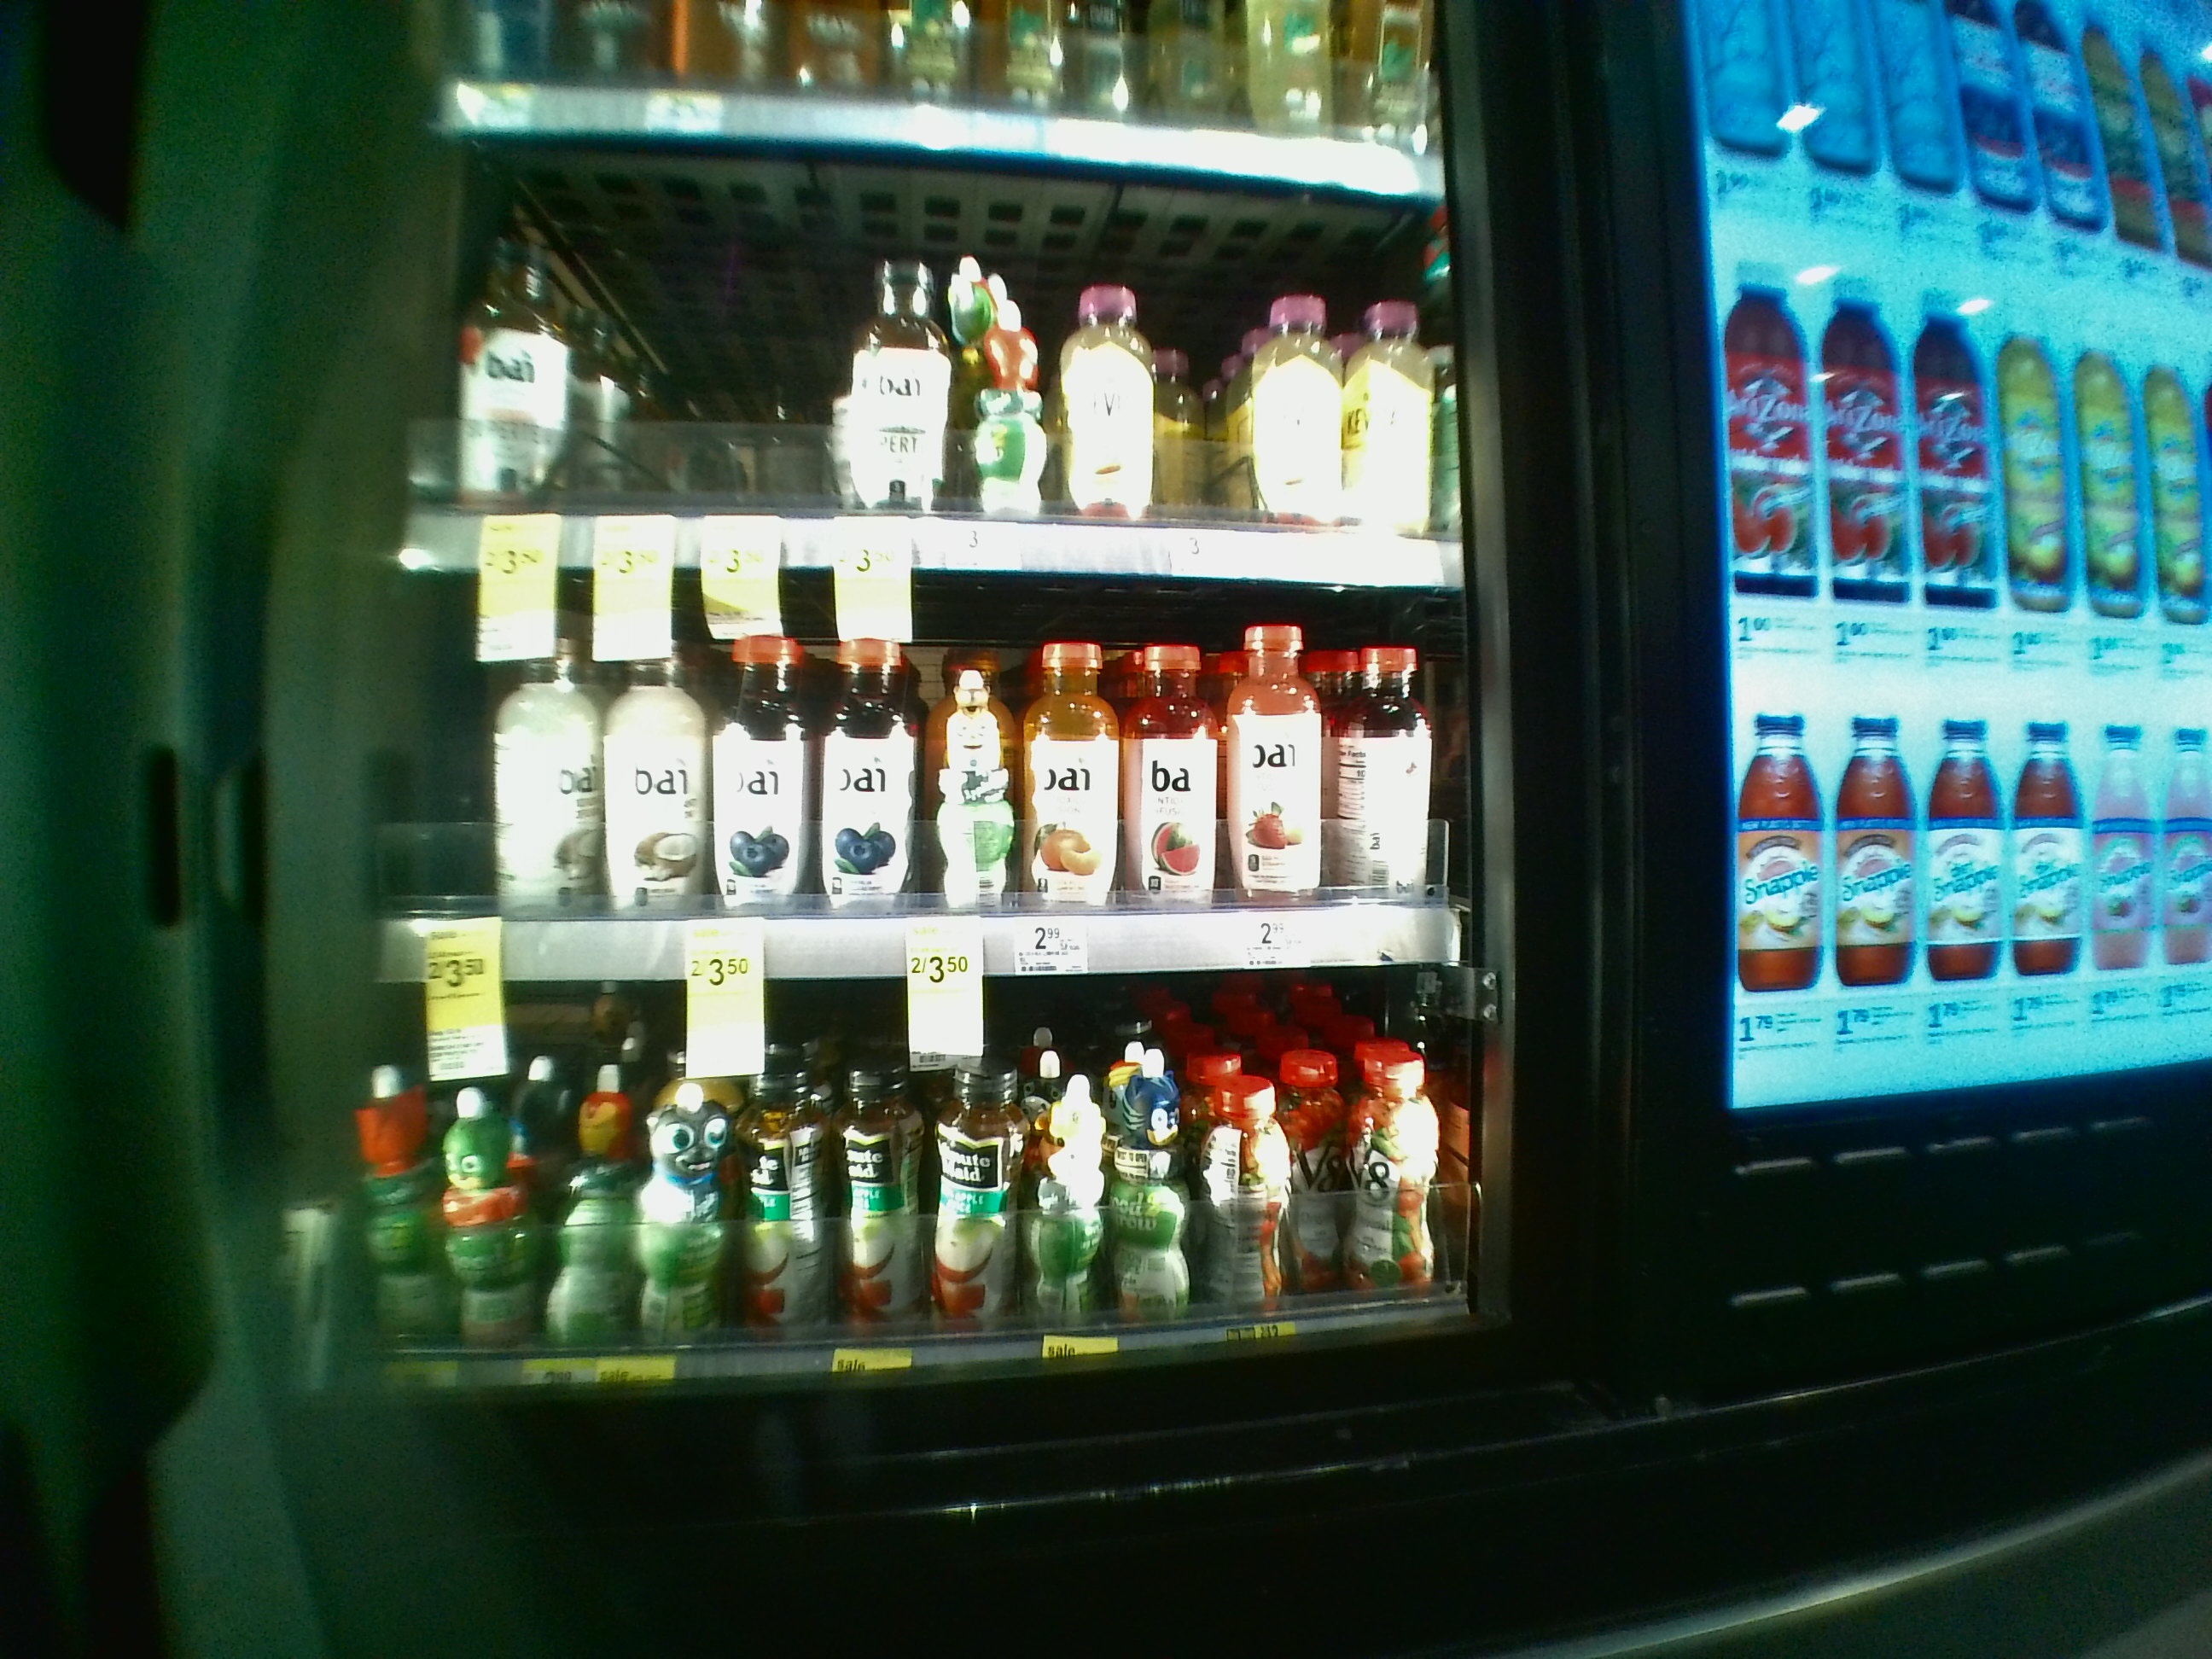shelf: (392, 136, 1463, 568), (361, 995, 1484, 1396), (380, 580, 1479, 985)
